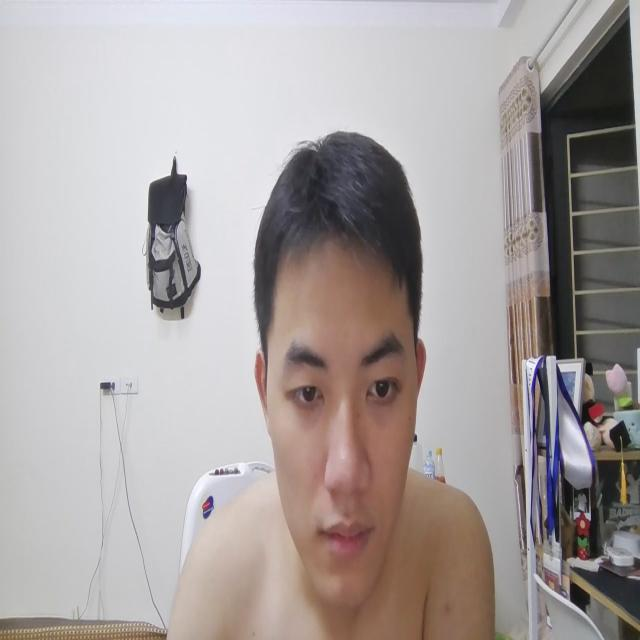student: (181, 114, 492, 640)
